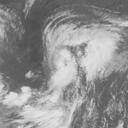cyclone: (15, 14, 118, 127)
